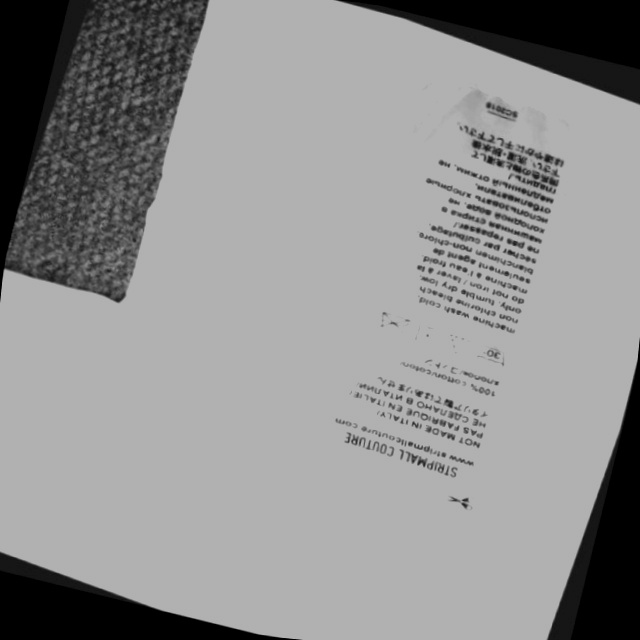30C: (473, 340, 513, 369)
DN_iron: (371, 307, 412, 340)
non_chlorine_bleach: (444, 331, 474, 358)
tumble_dry_low: (411, 321, 448, 349)
